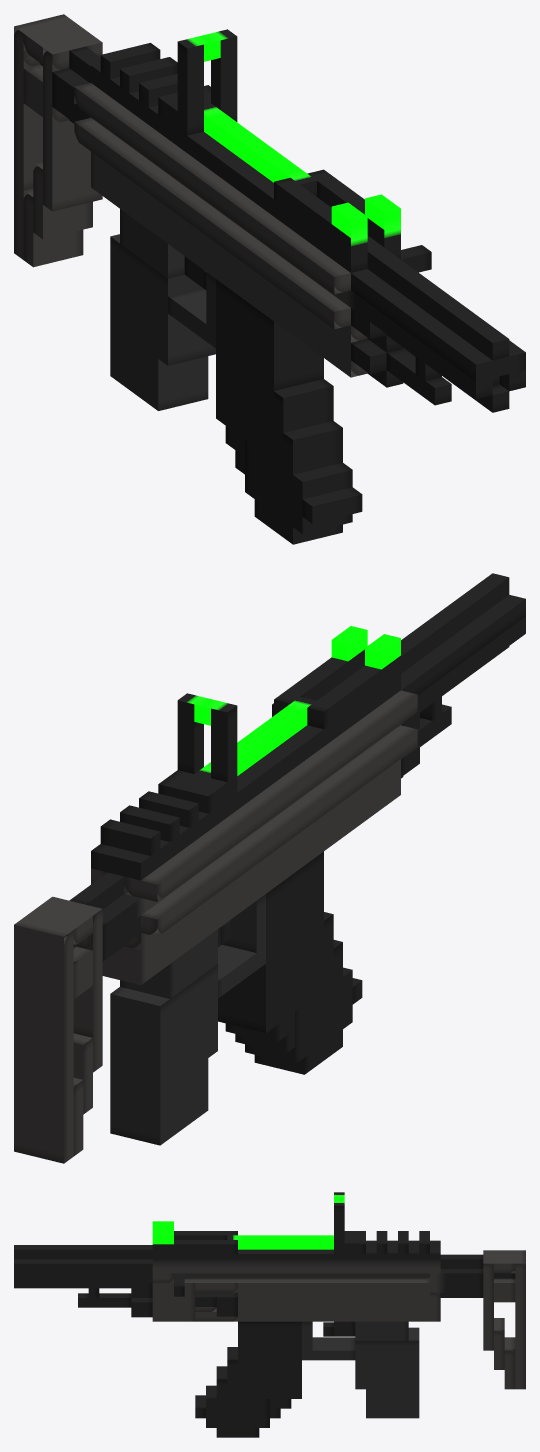
Rendered from Assault Rifle.dae.
The picture shows the model from 3 angles, top to bottom: view 1: azimuth 30°, elevation 25°; view 2: azimuth 150°, elevation 25°; view 3: azimuth 270°, elevation 25°; orthographic projection. The views are drawn at different scales.
Visible parts, largest first — view 1: AssaultRifle; view 2: AssaultRifle; view 3: AssaultRifle.
Boxes of the visible parts, x1=… form: AssaultRifle: x1=14, y1=14, x2=525, y2=544; AssaultRifle: x1=14, y1=573, x2=525, y2=1163; AssaultRifle: x1=14, y1=1192, x2=525, y2=1437.
Bounding box in the file's own units: 7 × 24 × 48.
